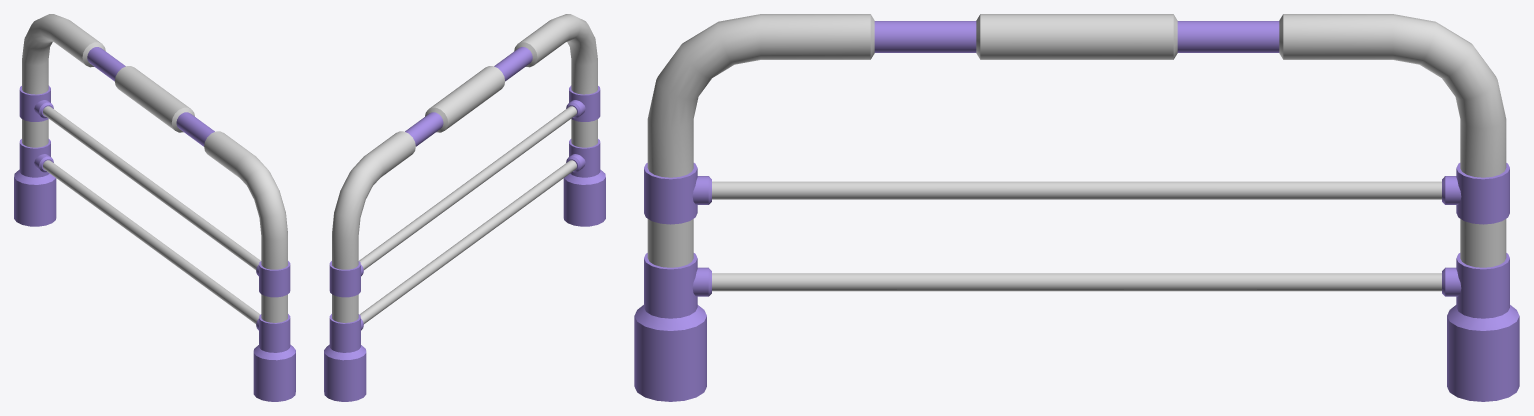
File: M_Barrier.fbx
3 renders of one model, left to right at view 1: azimuth 30°, elevation 25°; view 2: azimuth 150°, elevation 25°; view 3: azimuth 270°, elevation 25°, orthographic. The views are drawn at different scales.
Visible parts, largest first — view 1: Cylinder; view 2: Cylinder; view 3: Cylinder.
Part boxes in pixels (left/top/right/bottom): Cylinder: left=14, top=14, right=295, bottom=401; Cylinder: left=324, top=14, right=605, bottom=401; Cylinder: left=634, top=14, right=1519, bottom=401.
Size of the model in its own units: 25.7 by 145 by 313.
